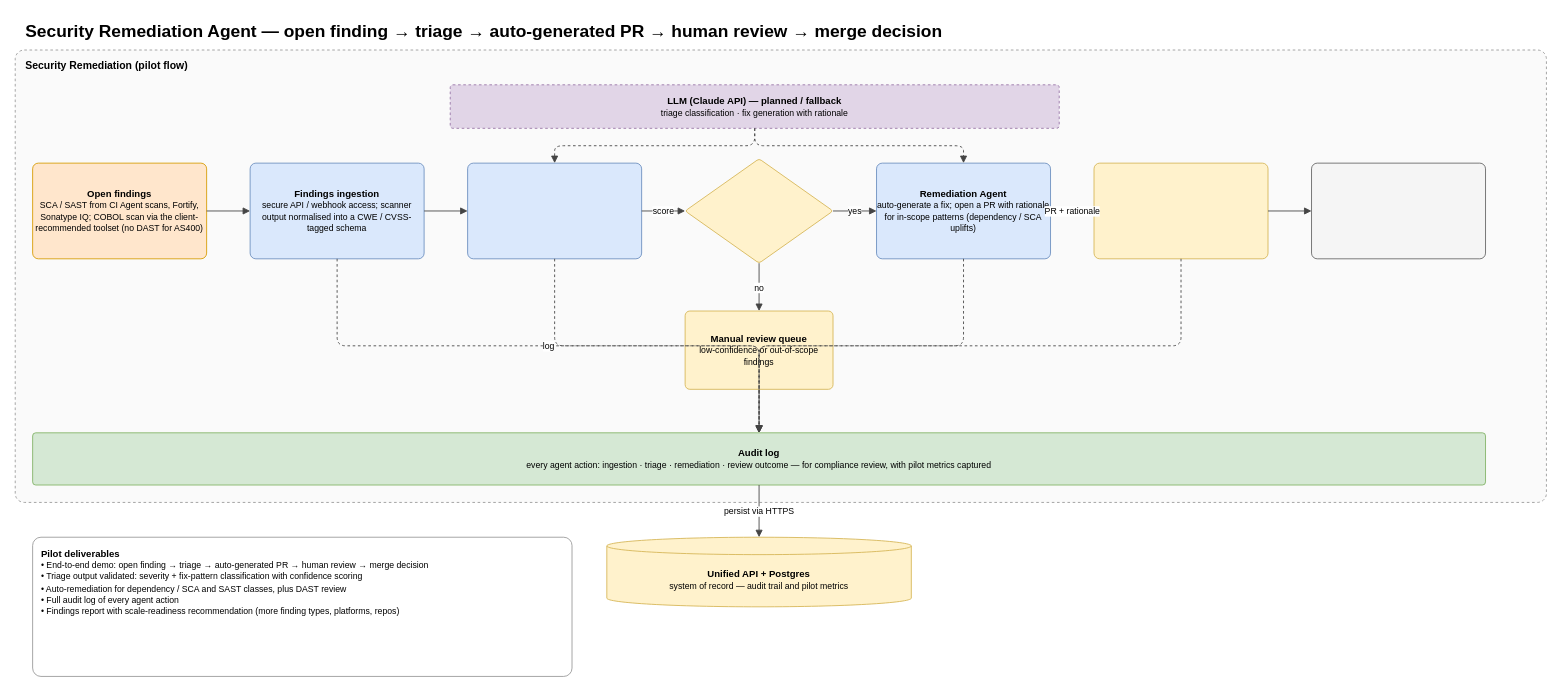
Image size: 1562x692. Some labels were removed from this diagram. The centre of each missing label's shape, as x and y in pixels:
"Human-in-the-loop gate reviewer approval before merge" belongs at point (1180, 210).
"In scope and high confidence?" belongs at point (758, 210).
"Merge decision merge or reject; outcome recorded" belongs at point (1398, 210).
"Triage Agent classify by severity and fix pattern; score confidence" belongs at point (554, 210).
